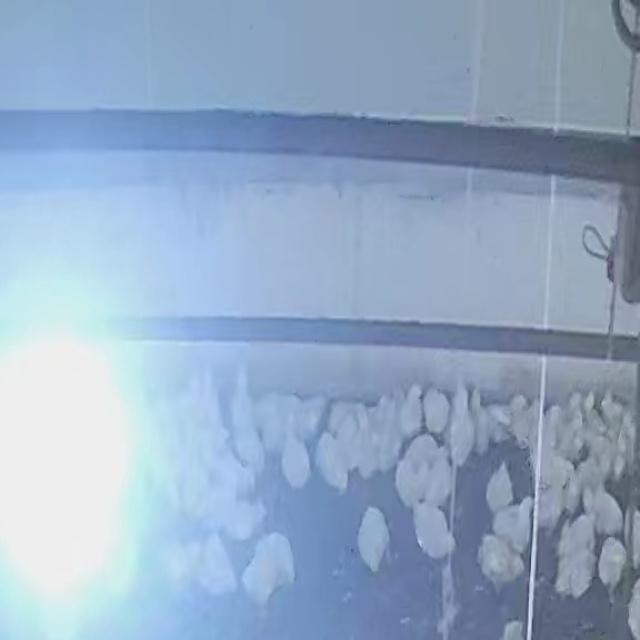chicken: (242, 533, 298, 605), (475, 531, 526, 595), (411, 499, 462, 558), (356, 502, 395, 576), (200, 532, 238, 600), (492, 494, 534, 554), (554, 548, 598, 598), (597, 532, 630, 596), (281, 432, 312, 492), (484, 462, 516, 513)
